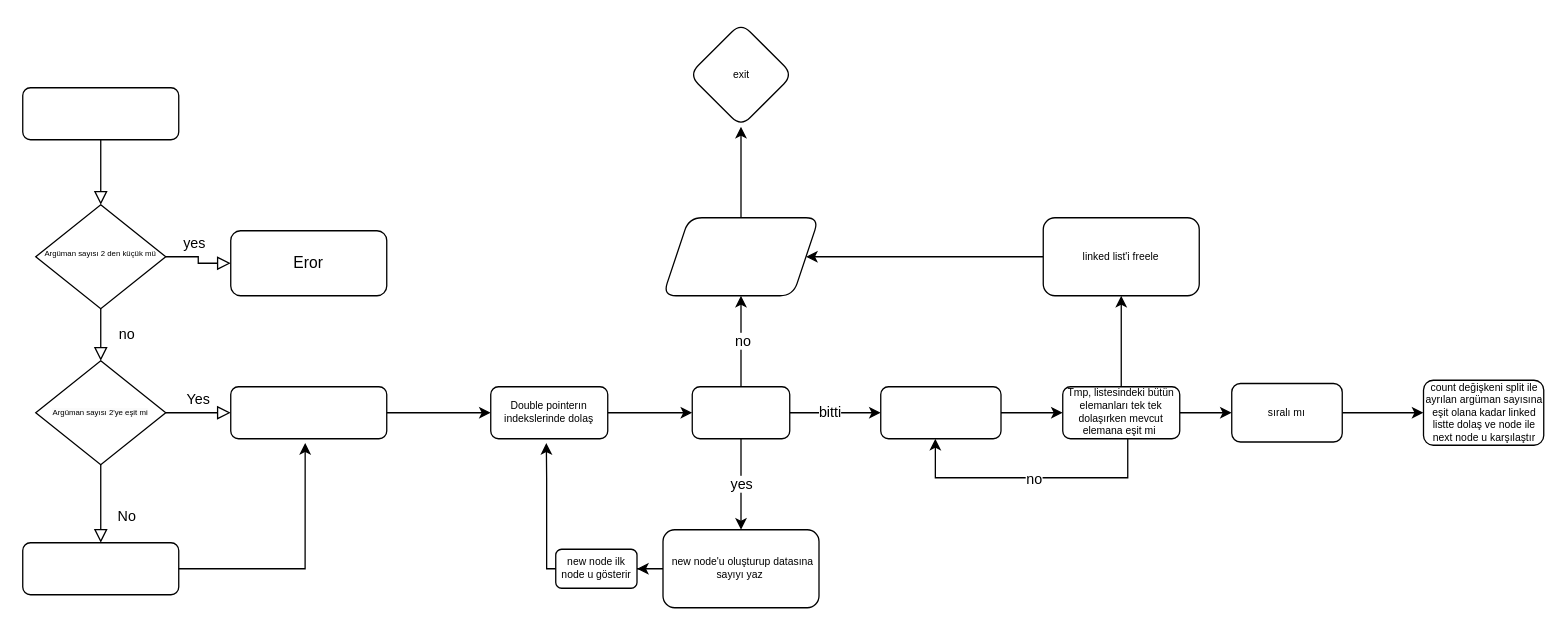
This 1567x631 diagram has some shape labels left out. The shapes that lost their labels are listed below. From the top down, each one's centre as x and y in pixels, then its label:
At (100,113): "Çalıştı".
At (740,256): "Ekrana error yaz".
At (308,412): "split ile argümanları ayır".
At (740,412): "girilen sayı mı, int mint max".
At (940,412): "Eşitlik kontrolu için Linked listte dolaş".
At (100,568): "girilen argümanları tek bir stringe çevir".
